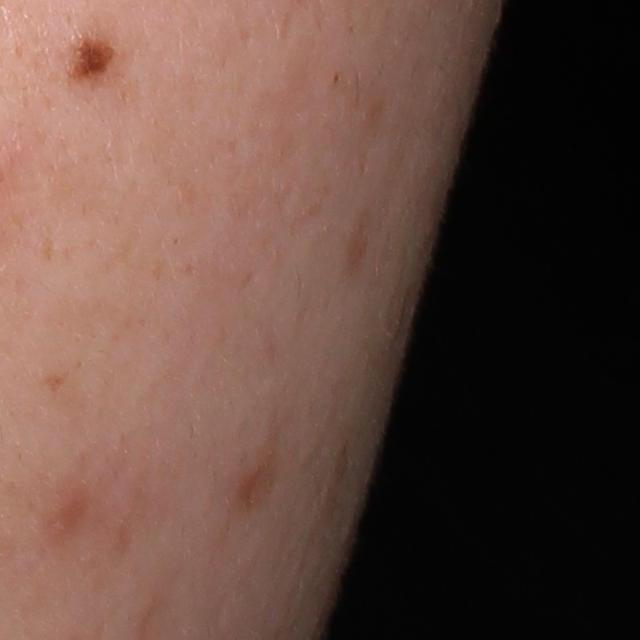nevus: (68, 25, 128, 82)
